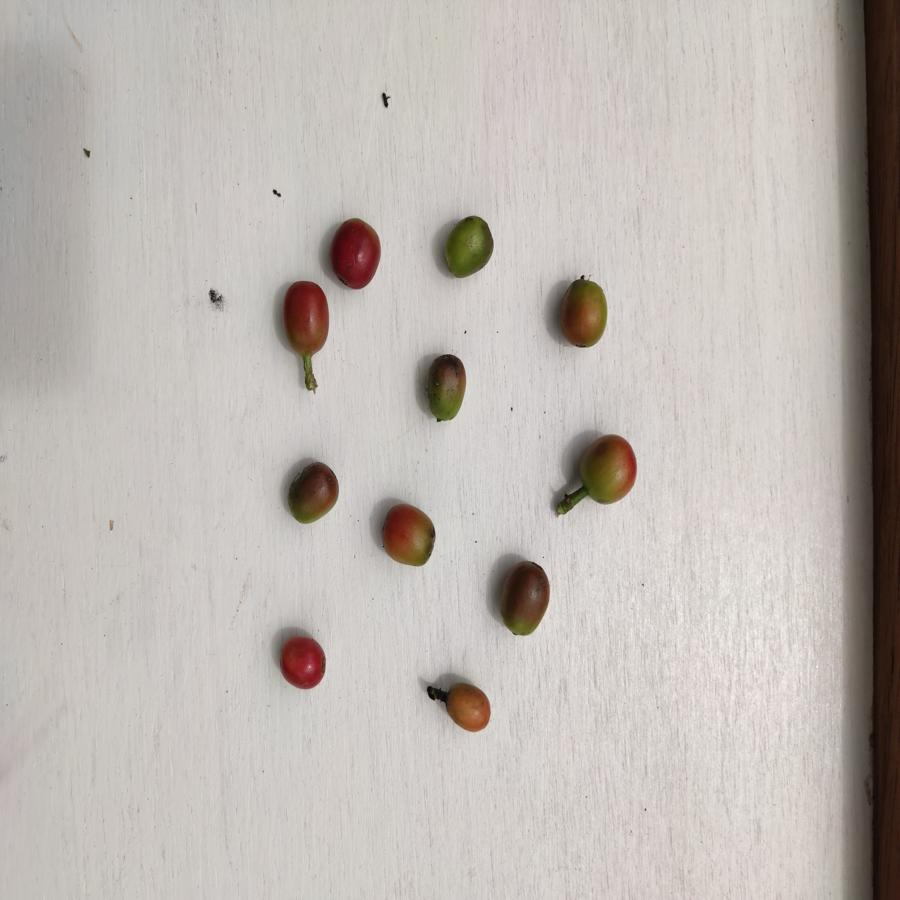Maduro: (326, 212, 385, 291), (278, 278, 333, 356), (275, 633, 331, 693)
Pinton: (575, 427, 645, 507), (499, 557, 554, 641), (380, 499, 441, 570), (441, 211, 499, 283), (559, 276, 611, 347), (284, 461, 341, 525), (425, 351, 470, 427), (446, 681, 493, 733)
